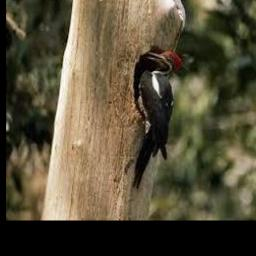Woodpecker: (132, 50, 182, 189)
